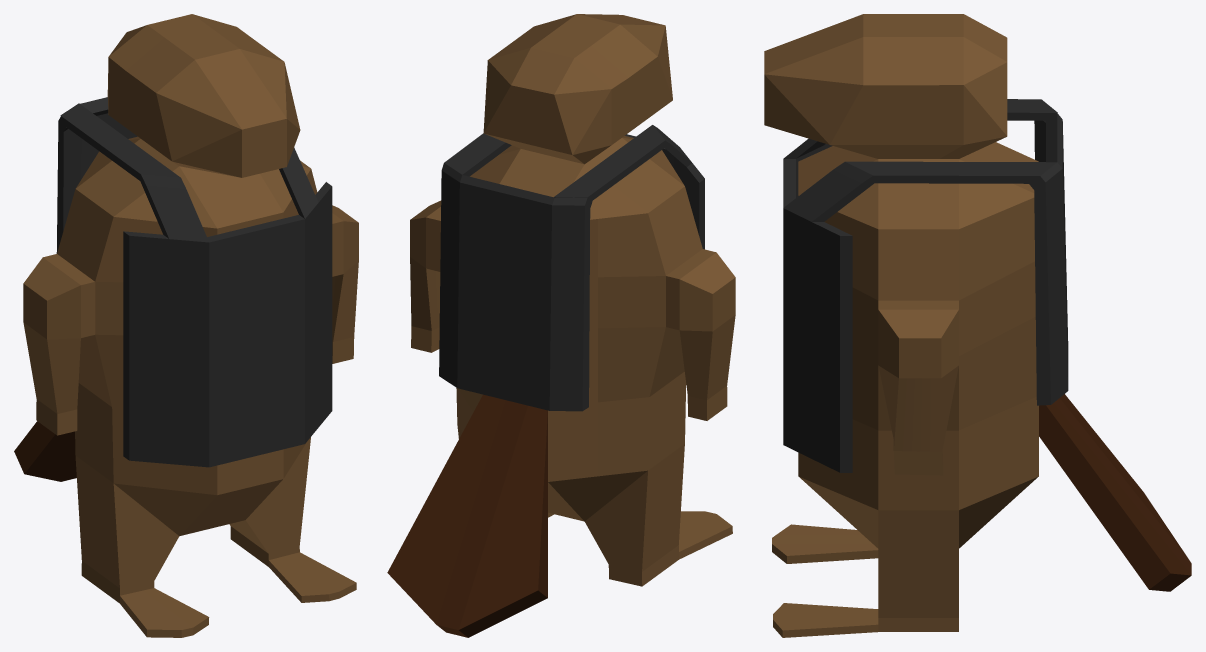
The model's file is beefy_beaver_model.fbx.
3 renders of one model, left to right at view 1: azimuth 30°, elevation 25°; view 2: azimuth 150°, elevation 25°; view 3: azimuth 270°, elevation 25°, orthographic. The views are drawn at different scales.
Visible parts, largest first — view 1: Cube; view 2: Cube; view 3: Cube.
Part boxes in pixels (x1=…): Cube: x1=14, y1=14, x2=358, y2=637; Cube: x1=387, y1=14, x2=735, y2=637; Cube: x1=764, y1=14, x2=1191, y2=637.
Bounding box in the file's own units: 135 × 218 × 150.
